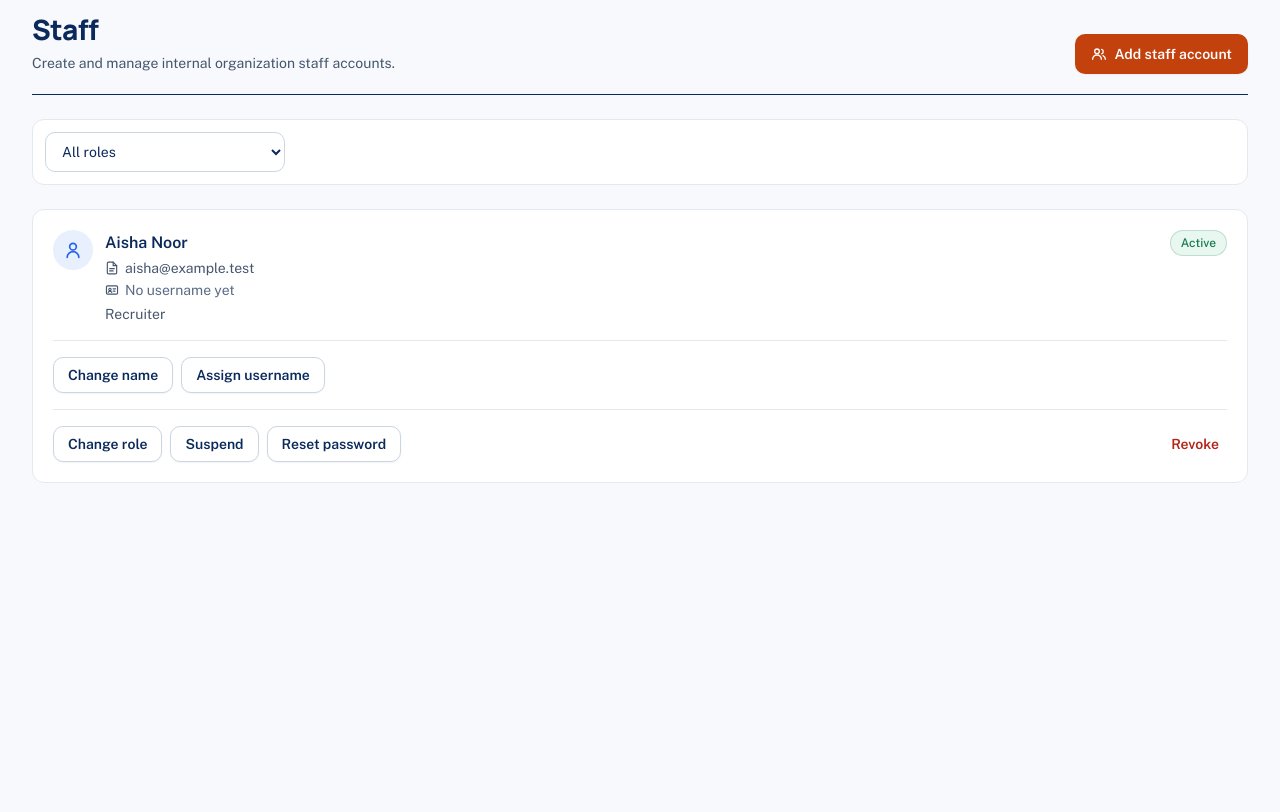
Test case: Managed staff identity (Backend Phase B5 / B5.5) › username › surfaces the backend duplicate-username error by its stable code
The width and height of the screenshot is (1280, 812).
Click the button "Assign username".
click(253, 375)  # box [181,357,325,393]
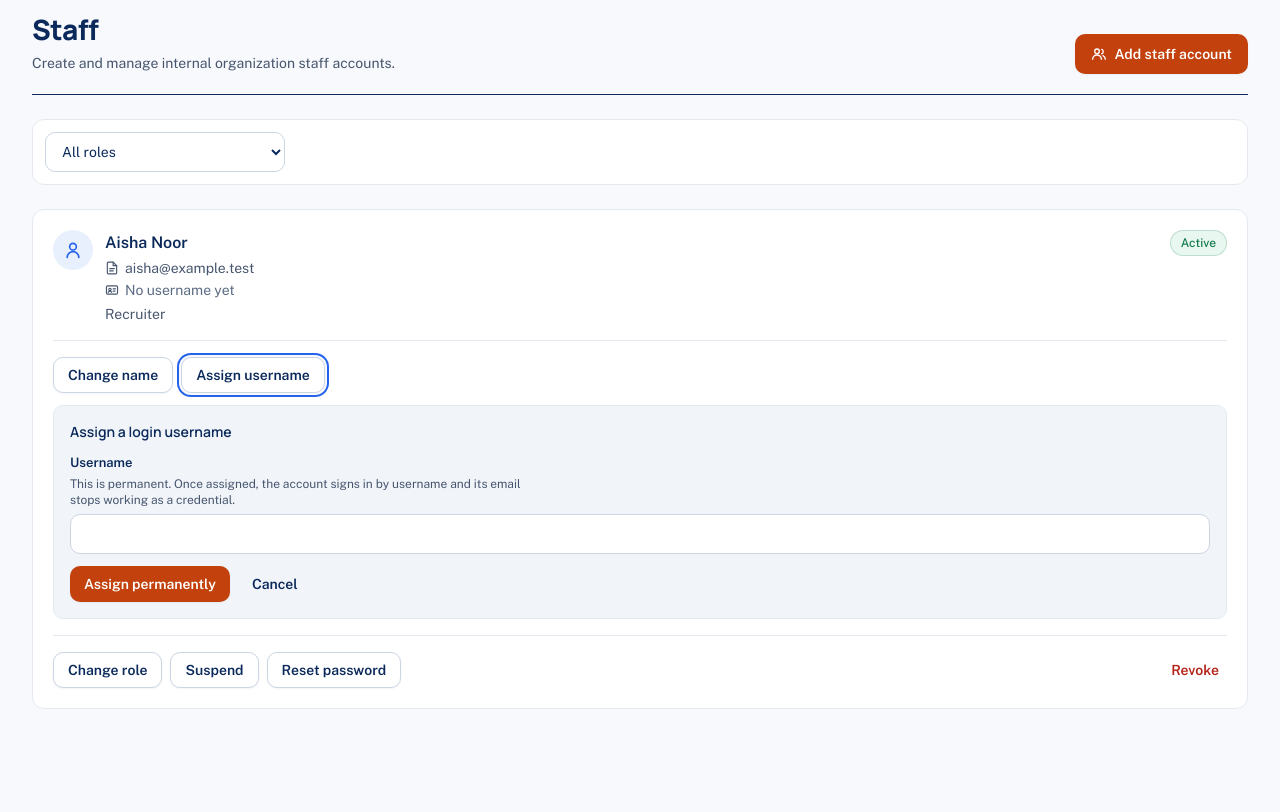
Type "taken.name" into the field labelled "Username".
click(640, 534); type("taken.name")  # box [70,514,1210,554]
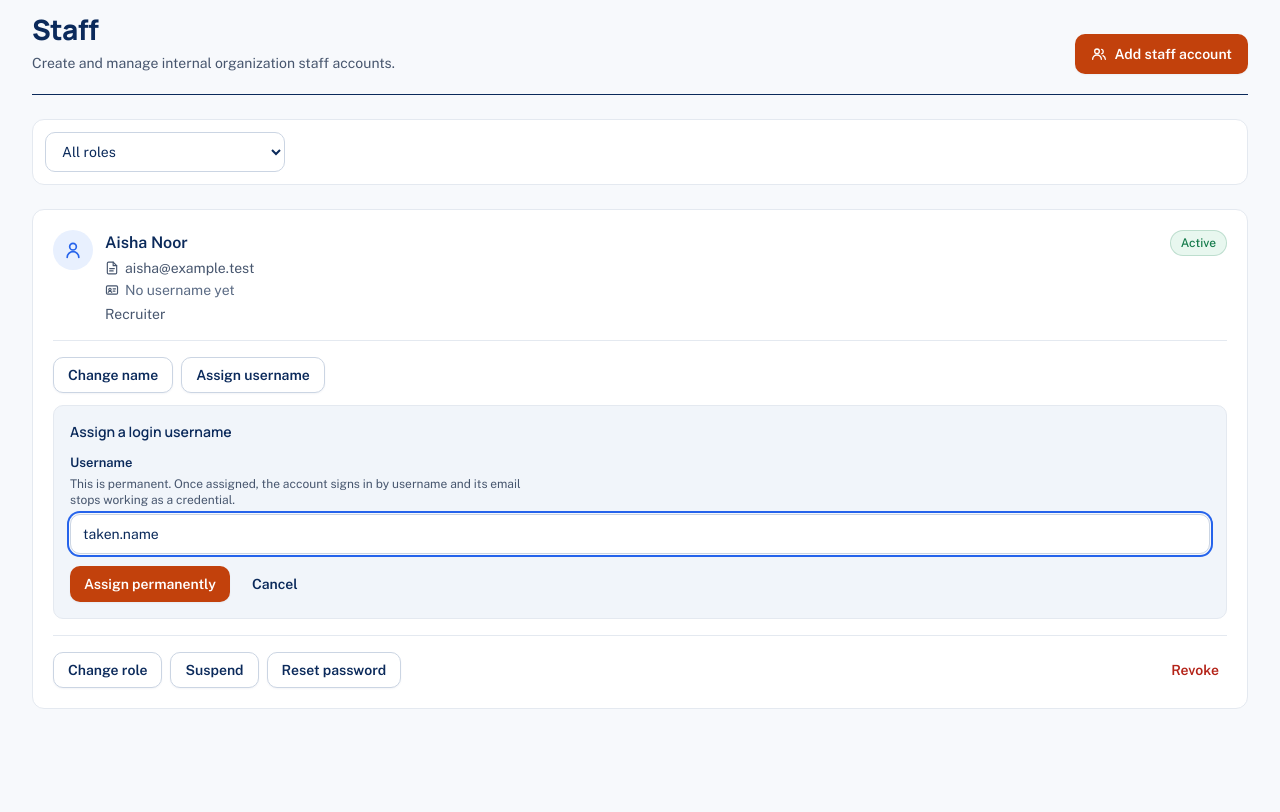
Click the button "Assign permanently".
click(150, 584)  # box [70,566,230,602]
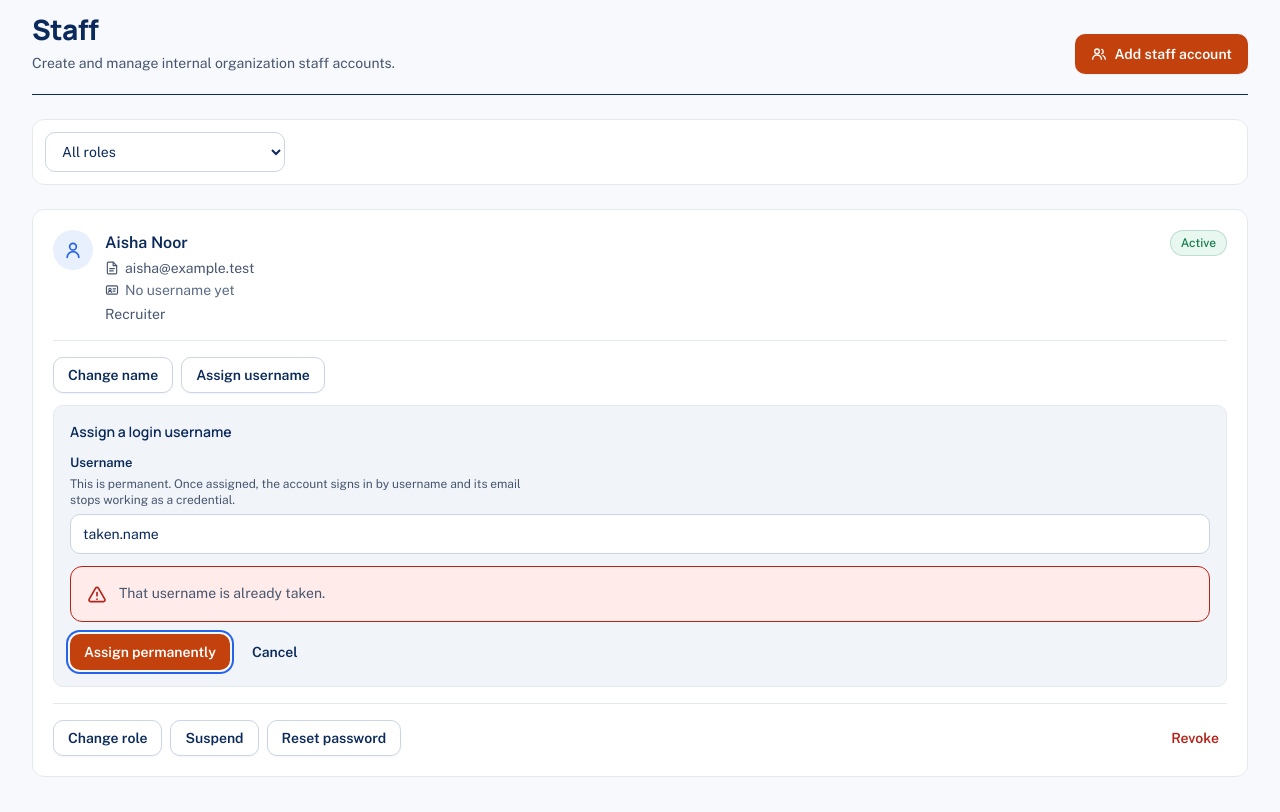
Check: the text "That username is already taken." is shown, box [119,585,325,601]
